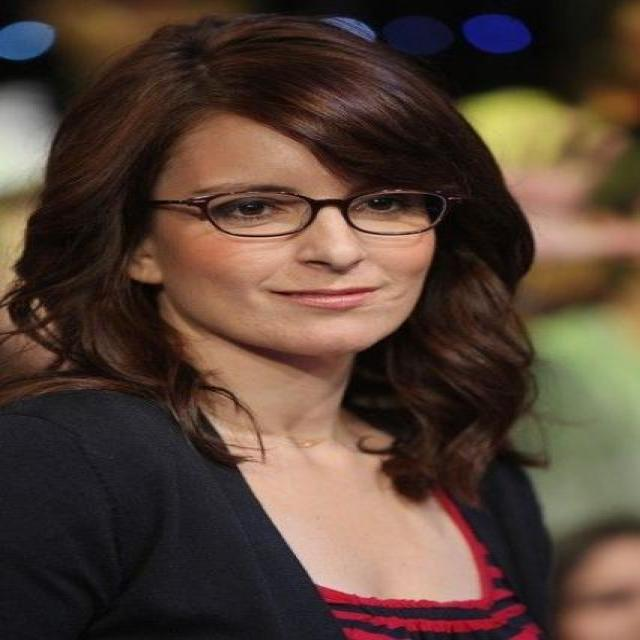glasses: (128, 186, 472, 238)
